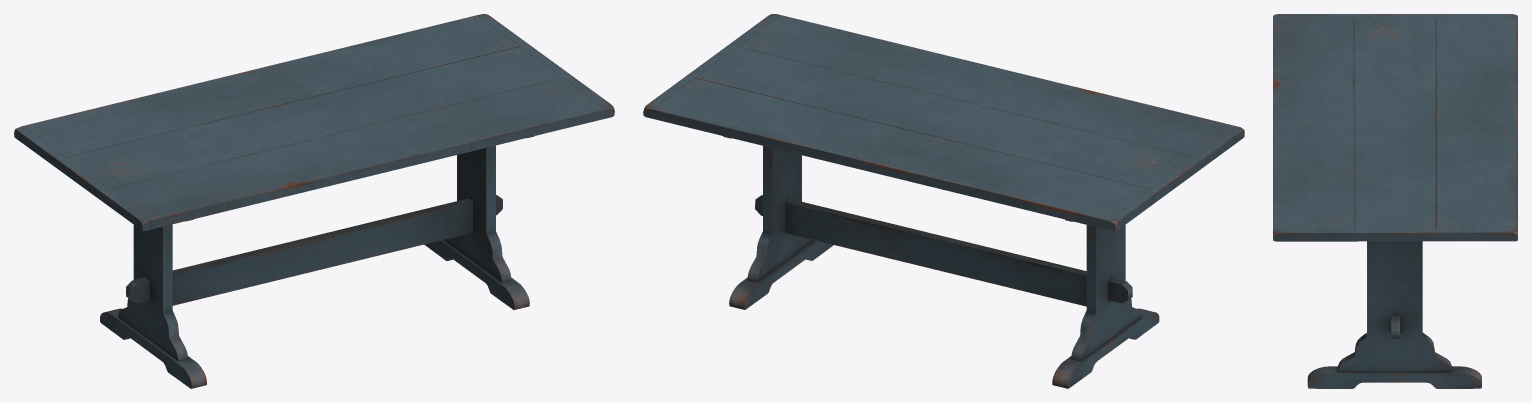
File: painted_wooden_table.glb
3 views of the same model, side by side, from view 1: azimuth 30°, elevation 25°; view 2: azimuth 150°, elevation 25°; view 3: azimuth 270°, elevation 25° (orthographic). The views are drawn at different scales.
Visible parts, largest first — view 1: painted_wooden_table; view 2: painted_wooden_table; view 3: painted_wooden_table.
Boxes of the visible parts, left/top/right/bottom form: painted_wooden_table: left=14, top=14, right=614, bottom=388; painted_wooden_table: left=643, top=14, right=1244, bottom=388; painted_wooden_table: left=1273, top=14, right=1517, bottom=388.
Size of the model in its own units: 2.4 by 0.9586 by 1.14.
1 material, 1 textured.
